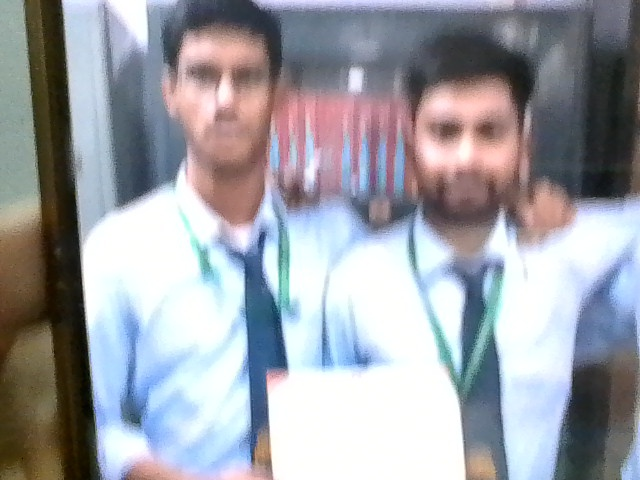real: (396, 24, 542, 231), (162, 0, 290, 181)
